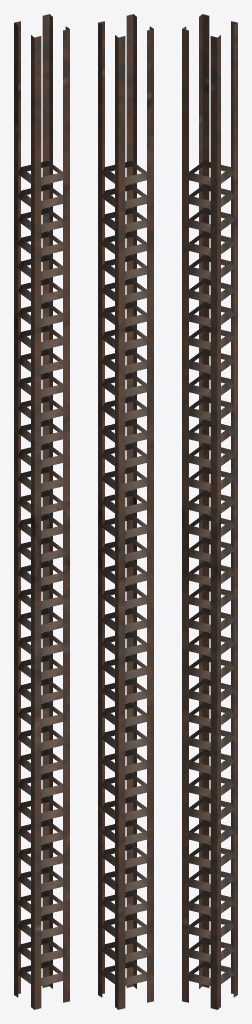
The model's file is truss_test.fbx.
The picture shows the model from 3 angles, left to right: view 1: azimuth 30°, elevation 25°; view 2: azimuth 210°, elevation 25°; view 3: azimuth 330°, elevation 25°; orthographic projection.
Parts seen in each view (by area): view 1: Vert.001; view 2: Vert.001; view 3: Vert.001.
Boxes of the visible parts, x1,y1,x2,y2 form: Vert.001: [14, 14, 69, 1009]; Vert.001: [98, 14, 153, 1009]; Vert.001: [182, 14, 237, 1009].
Bounding box in the file's own units: 3.82 × 100 × 3.82.
